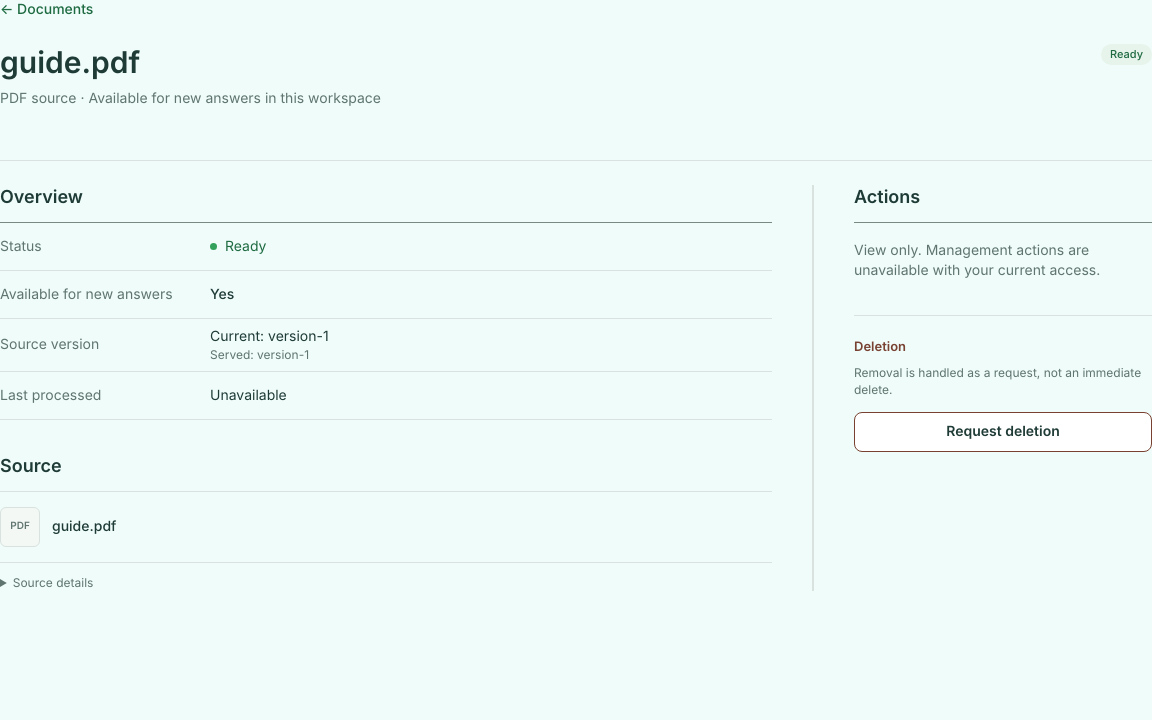
document management › gates deletion on documents:delete and keeps one idempotency key for a retry
Expected: the heading "guide.pdf" is shown, left=0, top=45, right=140, bottom=81
Click the button "Request deletion" at x=1003, y=432, box left=854, top=412, right=1151, bottom=452
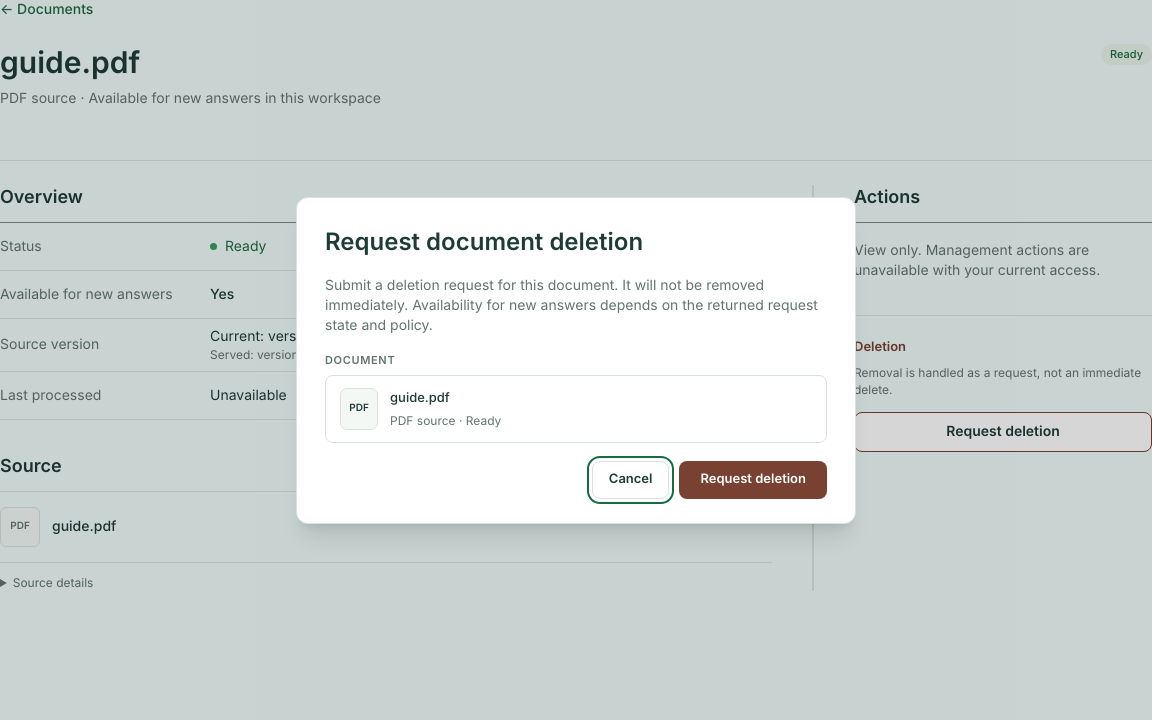
Click the button "Request deletion" at x=753, y=480, box left=680, top=460, right=827, bottom=498
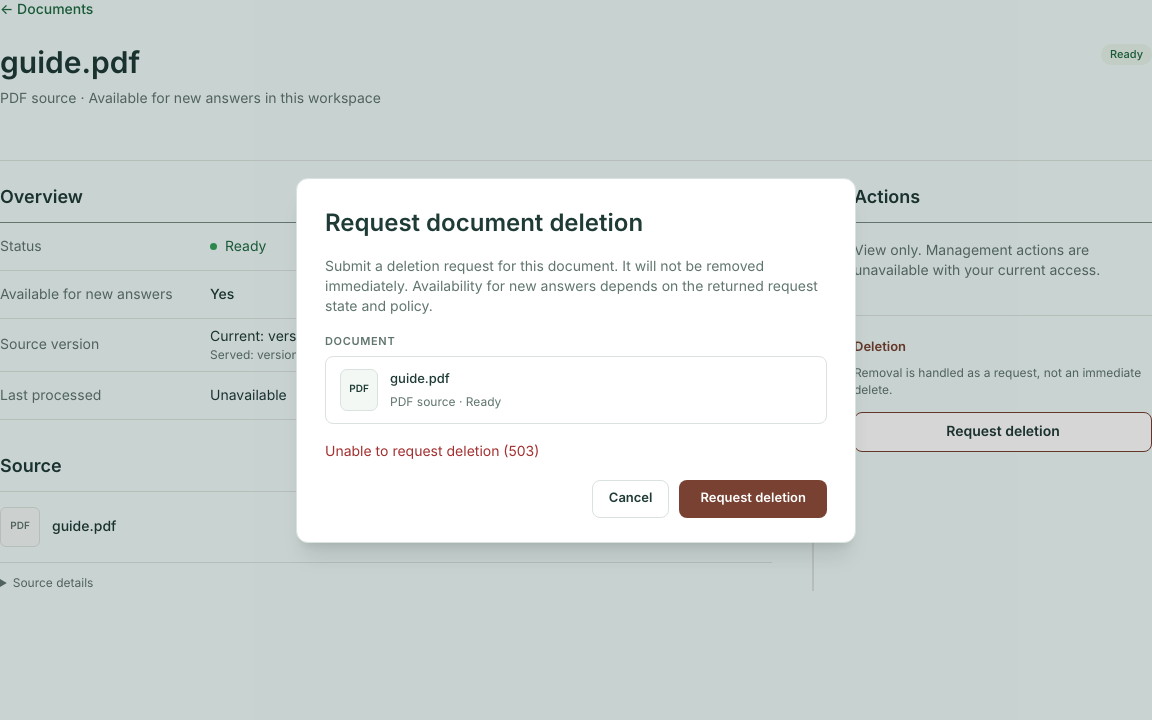
Result: the message "Unable to request deletion (503)" is shown at left=325, top=442, right=539, bottom=460
Click the button "Request deletion" at x=753, y=498, box left=680, top=480, right=827, bottom=518
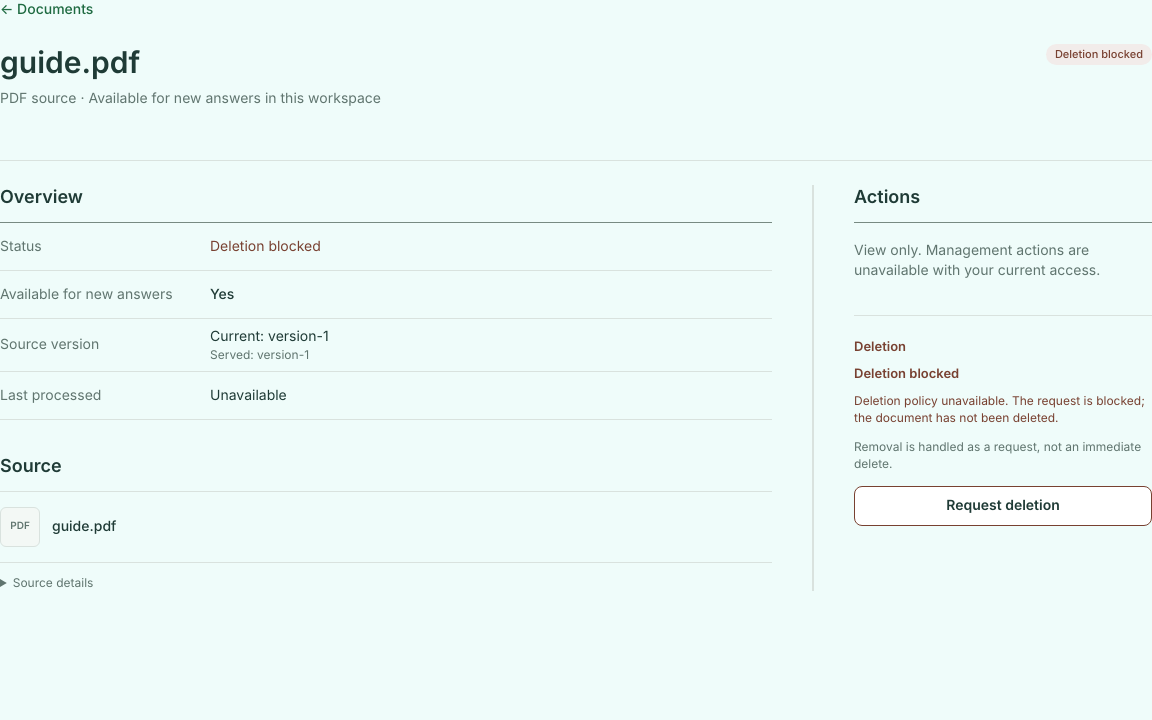
Result: the dialog is gone
Result: the element named "Deletion request" shows "Deletion blocked" at left=854, top=366, right=959, bottom=382
